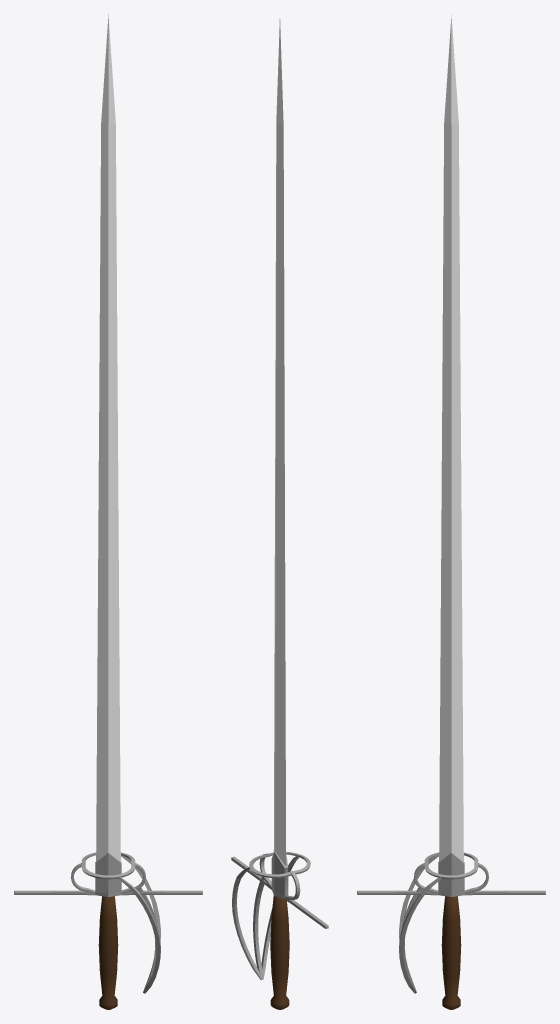
The model's file is Rapier4.glb.
3 views of the same model, side by side, from view 1: azimuth 90°, elevation 25°; view 2: azimuth 210°, elevation 25°; view 3: azimuth 270°, elevation 25° (orthographic).
Parts seen in each view (by area): view 1: Cube.001, Cube, Cylinder; view 2: Cube.001, Cube, Cylinder; view 3: Cube.001, Cube, Cylinder.
Part boxes in pixels (bbox=[...]): Cube.001: bbox=[96, 14, 120, 861]; Cube: bbox=[14, 852, 202, 993]; Cylinder: bbox=[98, 896, 118, 1009]; Cube.001: bbox=[273, 19, 286, 866]; Cube: bbox=[231, 851, 328, 979]; Cylinder: bbox=[270, 895, 289, 1009]; Cube.001: bbox=[439, 14, 463, 861]; Cube: bbox=[357, 852, 545, 993]; Cylinder: bbox=[441, 896, 461, 1009].
Size of the model in its own units: 0.4799 by 8.2 by 1.41.
